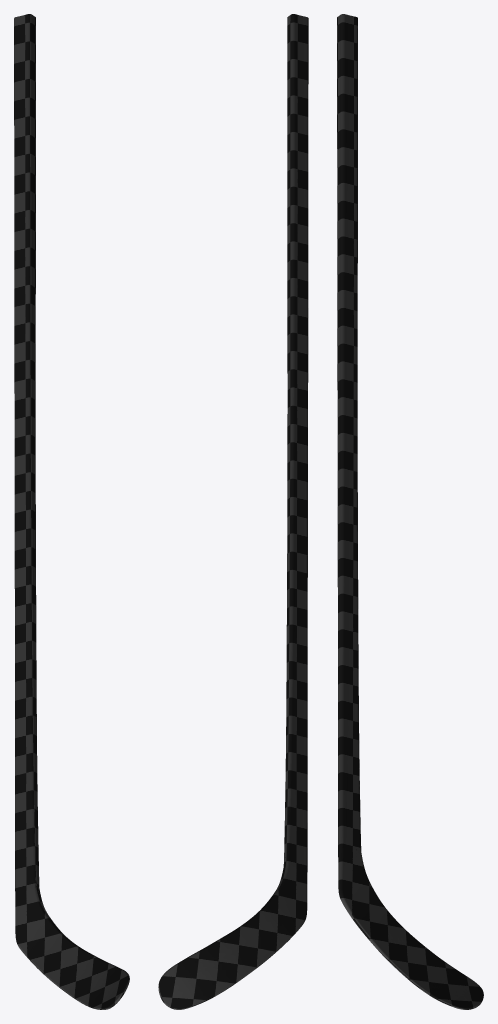
Rendered from P15-SBT.glb.
The picture shows the model from 3 angles, left to right: view 1: azimuth 30°, elevation 25°; view 2: azimuth 150°, elevation 25°; view 3: azimuth 330°, elevation 25°; orthographic projection. The views are drawn at different scales.
Visible parts, largest first — view 1: geometry_0; view 2: geometry_0; view 3: geometry_0.
Boxes of the visible parts, x1,y1,x2,y2 form: geometry_0: (14,14,129,1009); geometry_0: (158,14,308,1009); geometry_0: (337,14,483,1009).
Size of the model in its own units: 222 by 1650 by 72.32.
1 material, 1 textured.
